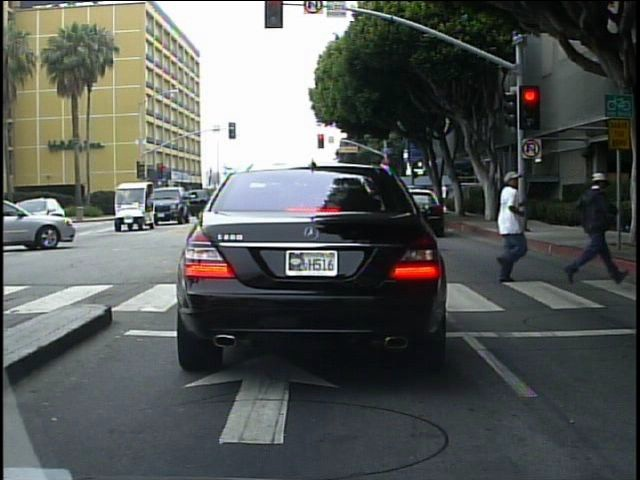person: (563, 168, 619, 290), (480, 166, 531, 286), (438, 179, 453, 212)
